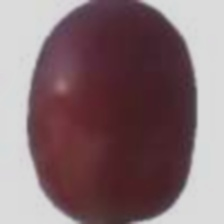grapes: (19, 11, 206, 191)
